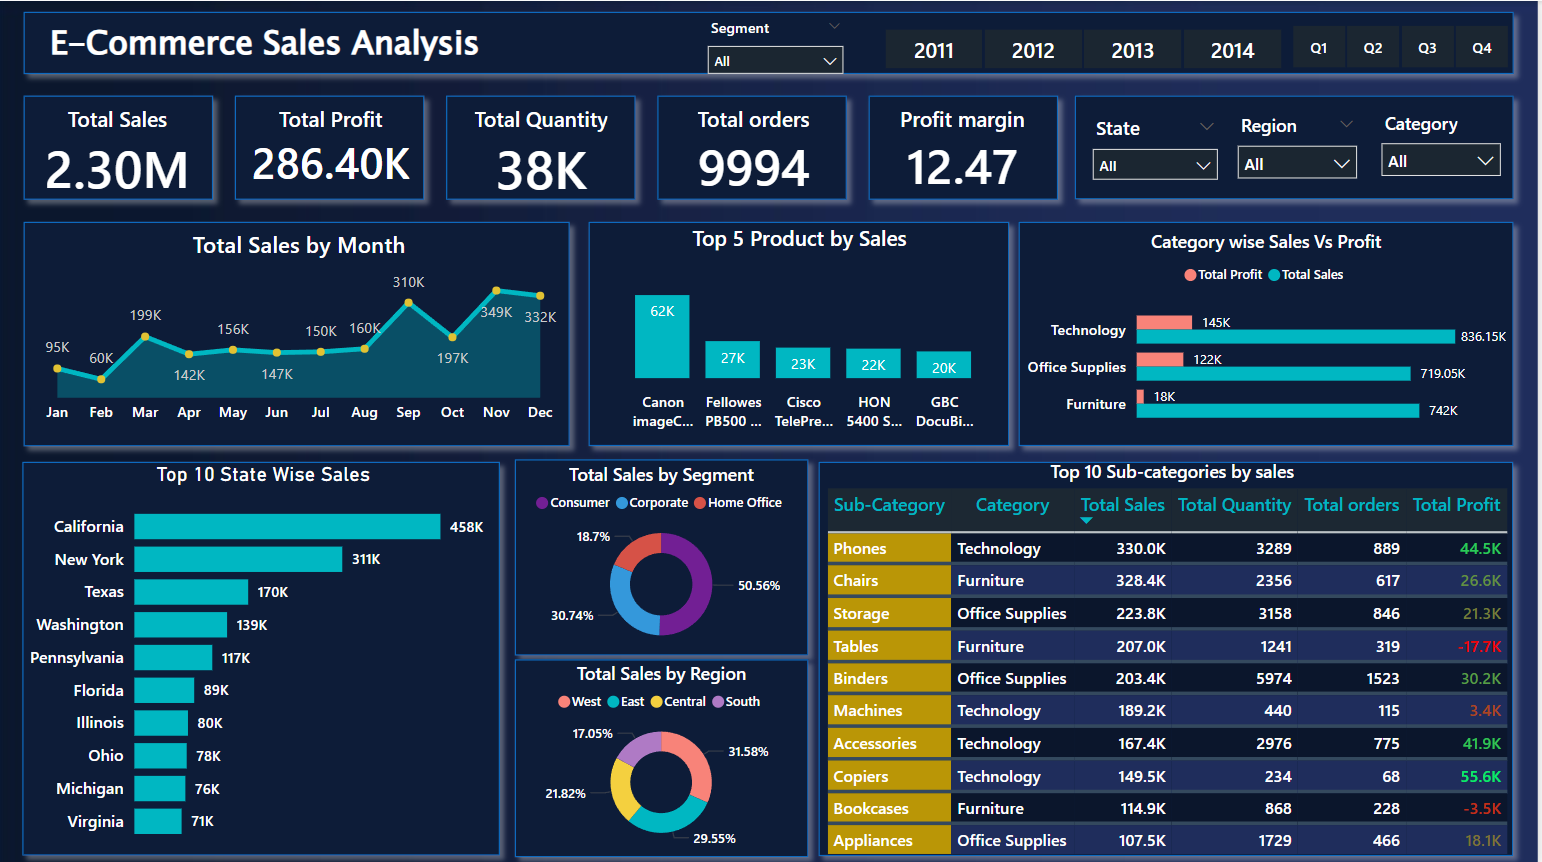

What the dashboard file says about the page in this screenshot:
{"tool":"powerbi","page":{"name":"Page 1","canvas":[1280,720],"ordinal":0},"visuals":[{"type":"shape","box":[885.1,70,382.8,104.3],"z":0},{"type":"shape","box":[838.4,174.3,429.5,204.5],"z":1000},{"type":"shape","box":[11.6,0,1257,69.8],"z":2000},{"type":"textbox","box":[37.2,9.3,559.3,53.5],"z":3000},{"type":"shape","box":[11.6,69.8,175.6,104.7],"z":4000},{"type":"cardVisual","fields":{"Data":["Table_1.Total Sales"]},"box":[10.5,69.8,176.7,104.7],"z":5000},{"type":"cardVisual","fields":{"Data":["Table_1.Total Profit"]},"box":[182.6,69.8,186,104.7],"z":6000},{"type":"shape","box":[187.2,69.8,175.6,104.7],"z":7000},{"type":"shape","box":[362.8,69.8,175.6,104.7],"z":8000},{"type":"shape","box":[538.4,69.8,175.6,104.7],"z":9000},{"type":"shape","box":[714,69.8,175.6,104.7],"z":10000},{"type":"cardVisual","fields":{"Data":["Table_1.Total Profit"]},"box":[182.6,69.8,186,104.7],"z":11000},{"type":"cardVisual","fields":{"Data":["Table_1.Total Quantity"]},"box":[362.8,69.8,176.7,104.7],"z":12000},{"type":"cardVisual","fields":{"Data":["Table_1.Total orders"]},"box":[539.5,69.8,176.7,104.7],"z":13000},{"type":"cardVisual","fields":{"Data":["Table_1.Profit margin"]},"box":[712.8,69.8,176.7,104.7],"z":14000},{"type":"shape","box":[11.6,174.4,472.1,204.7],"z":15000},{"type":"lineChart","title":"Total Sales by Month ","fields":{"Category":["Table_1.Month Name"],"Y":["Table_1.Total Sales"]},"box":[29.1,189.5,440.7,170.9],"z":16000},{"type":"shape","box":[481.6,174.3,367.8,204.5],"z":17000},{"type":"columnChart","title":"Top 5 Product by Sales","fields":{"Y":["Table_1.Total Sales"],"Category":["Table_1.Product Name"]},"box":[492.6,185.2,345.8,179.8],"z":18000},{"type":"shape","box":[10.5,374.4,415.1,345.3],"z":19000},{"type":"clusteredBarChart","title":"Category wise Sales Vs Profit","fields":{"Y":["Table_1.Total Profit","Table_1.Total Sales"],"Category":["Table_1.Category"]},"box":[849.4,189.4,408.9,175.6],"z":20000},{"type":"shape","box":[419.9,371.9,262.1,181.1],"z":21000},{"type":"shape","box":[419.9,537.9,262.1,182.5],"z":22000},{"type":"donutChart","fields":{"Category":["Table_1.Segment"],"Y":["Table_1.Total Sales"]},"box":[429.1,383.7,243,161.6],"z":23000},{"type":"donutChart","fields":{"Category":["Table_1.Region"],"Y":["Table_1.Total Sales"]},"box":[429.1,548.8,243,160.5],"z":24000},{"type":"shape","box":[672.4,374.6,595.5,345.8],"z":25000},{"type":"tableEx","title":"Top 10 Sub-categories by sales","fields":{"Values":["Table_1.Sub-Category","Table_1.Category","Table_1.Total Sales","Table_1.Total Quantity","Table_1.Total orders","Table_1.Total Profit"]},"box":[682.8,380.4,585.1,338.8],"z":26000},{"type":"slicer","fields":{"Values":["Table_1.Year"]},"box":[710.5,16.3,379.1,46.5],"z":27000},{"type":"slicer","fields":{"Values":["Table_1.Region"]},"box":[1019.6,87.8,119.4,70],"z":28000},{"type":"slicer","fields":{"Values":["Table_1.Category"]},"box":[1138.9,86.4,119.4,70],"z":29000},{"type":"slicer","fields":{"Values":["Table_1.Segment"]},"box":[579.1,9.6,133.1,61.7],"z":30000},{"type":"slicer","fields":{"Values":["Table_1.State"]},"box":[898.8,89.5,124.4,72.1],"z":31000},{"type":"barChart","title":"Top 10 State Wise Sales","fields":{"Category":["Table_1.State"],"Y":["Table_1.Total Sales"]},"box":[19.8,383.7,400,325.6],"z":32000},{"type":"slicer","fields":{"Values":["Sales table.Quarter"]},"box":[1050,14,229.1,48.8],"z":33000}]}

Visuals, with their boxes in screenshot pixels (x1, y1, x2, y2), scaled from the page's 1280x720 canvas onto the 1542x862 screenshot:
shape: 1066, 84, 1527, 209
shape: 1010, 209, 1527, 454
shape: 14, 0, 1528, 84
textbox: 45, 11, 719, 75
shape: 14, 84, 226, 209
cardVisual - Table_1.Total Sales: 13, 84, 226, 209
cardVisual - Table_1.Total Profit: 220, 84, 444, 209
shape: 226, 84, 437, 209
shape: 437, 84, 649, 209
shape: 649, 84, 860, 209
shape: 860, 84, 1072, 209
cardVisual - Table_1.Total Profit: 220, 84, 444, 209
cardVisual - Table_1.Total Quantity: 437, 84, 650, 209
cardVisual - Table_1.Total orders: 650, 84, 863, 209
cardVisual - Table_1.Profit margin: 859, 84, 1072, 209
shape: 14, 209, 583, 454
"Total Sales by Month " lineChart: 35, 227, 566, 431
shape: 580, 209, 1023, 454
"Top 5 Product by Sales" columnChart: 593, 222, 1010, 437
shape: 13, 448, 513, 861
"Category wise Sales Vs Profit" clusteredBarChart: 1023, 227, 1516, 437
shape: 506, 445, 822, 662
shape: 506, 644, 822, 861
donutChart - Table_1.Segment x Table_1.Total Sales: 517, 459, 810, 653
donutChart - Table_1.Region x Table_1.Total Sales: 517, 657, 810, 849
shape: 810, 448, 1527, 861
"Top 10 Sub-categories by sales" tableEx: 823, 455, 1527, 861
slicer - Table_1.Year: 856, 20, 1313, 75
slicer - Table_1.Region: 1228, 105, 1372, 189
slicer - Table_1.Category: 1372, 103, 1516, 187
slicer - Table_1.Segment: 698, 11, 858, 85
slicer - Table_1.State: 1083, 107, 1233, 193
"Top 10 State Wise Sales" barChart: 24, 459, 506, 849
slicer - Sales table.Quarter: 1265, 17, 1541, 75
